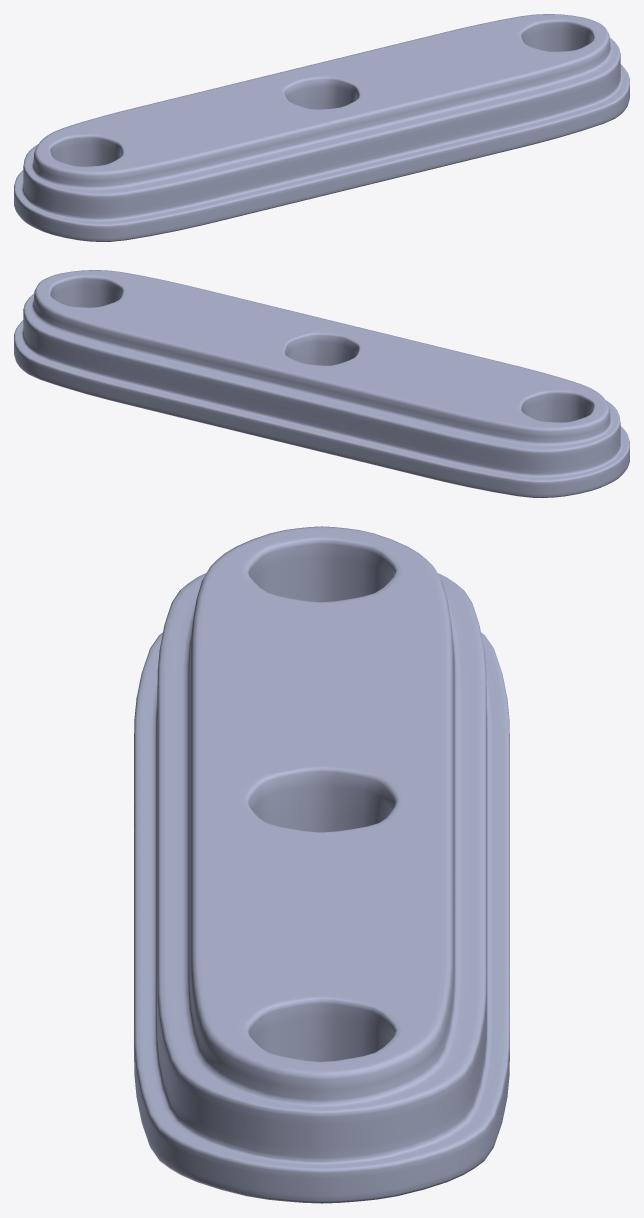
The model's file is FaucetBase.fbx.
The picture shows the model from 3 angles, top to bottom: view 1: azimuth 30°, elevation 25°; view 2: azimuth 150°, elevation 25°; view 3: azimuth 270°, elevation 25°; orthographic projection. The views are drawn at different scales.
Parts seen in each view (by area): view 1: Grifo.001; view 2: Grifo.001; view 3: Grifo.001.
Boxes of the visible parts, x1=… form: Grifo.001: x1=14, y1=14, x2=629, y2=241; Grifo.001: x1=14, y1=270, x2=629, y2=497; Grifo.001: x1=134, y1=526, x2=509, y2=1203.
Size of the model in its own units: 21.86 by 2.04 by 6.
